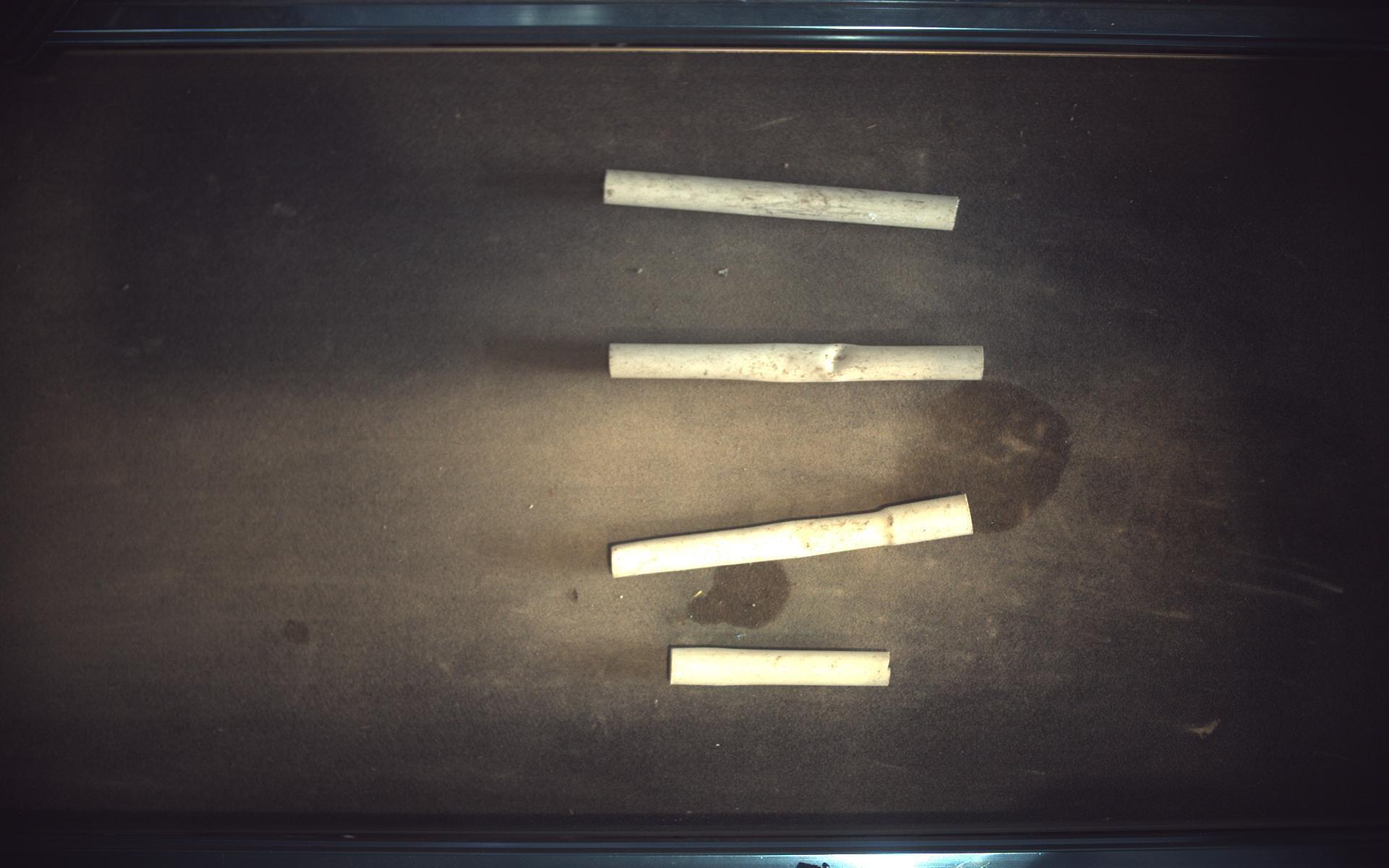pipes: (611, 494, 975, 578), (604, 169, 961, 230), (610, 343, 986, 383), (671, 648, 892, 687)
